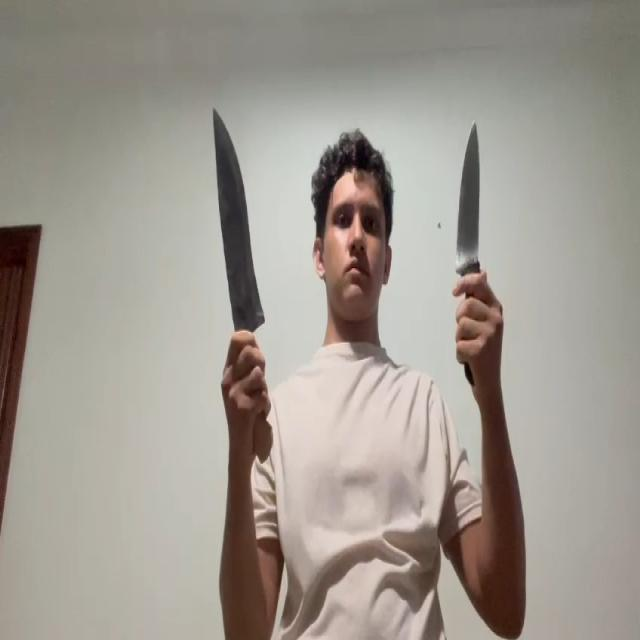knife: (211, 109, 266, 328), (454, 115, 482, 269)
